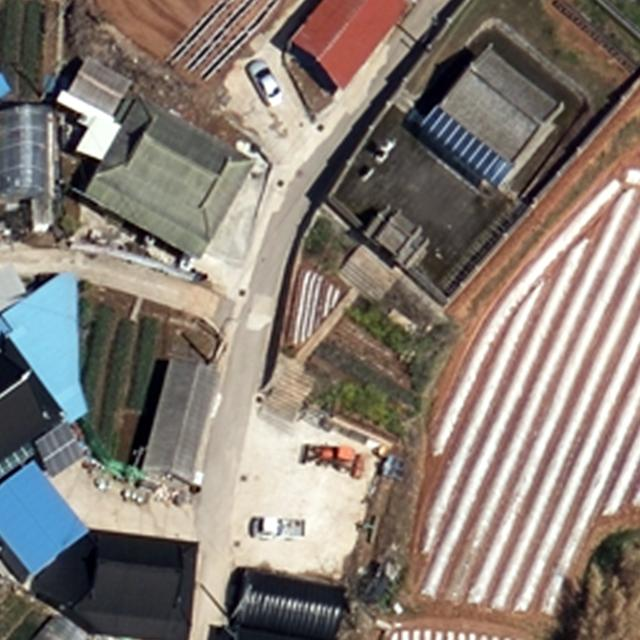panel: (419, 104, 514, 190)
